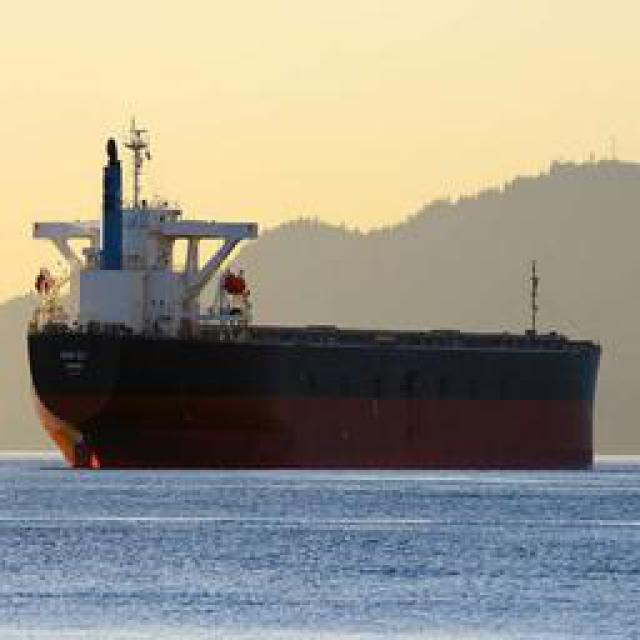Ship: (22, 294, 605, 467)
